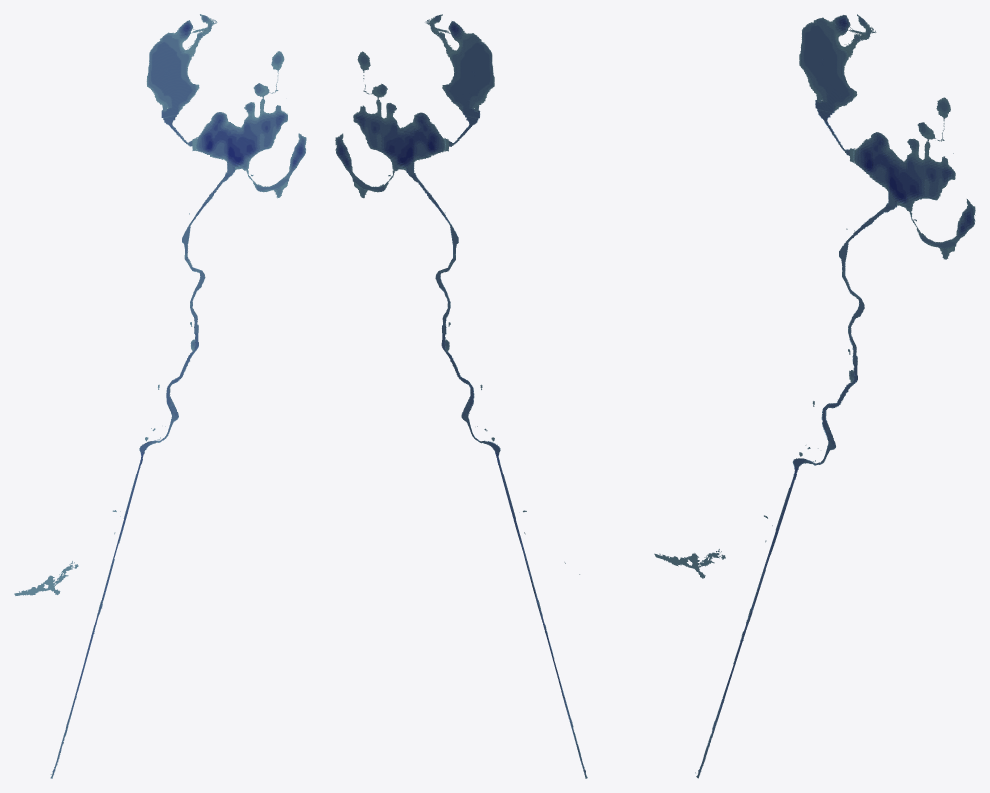
The model's file is triangle_mesh.glb.
3 views of the same model, side by side, from view 1: azimuth 30°, elevation 25°; view 2: azimuth 150°, elevation 25°; view 3: azimuth 330°, elevation 25° (orthographic). The views are drawn at different scales.
Parts seen in each view (by area): view 1: world; view 2: world; view 3: world.
Boxes of the visible parts, x1,y1,x2,y2 form: world: (14,14,306,778); world: (335,14,587,778); world: (654,14,975,778).
Bounding box in the file's own units: 1147 × 2739 × 13.99.
